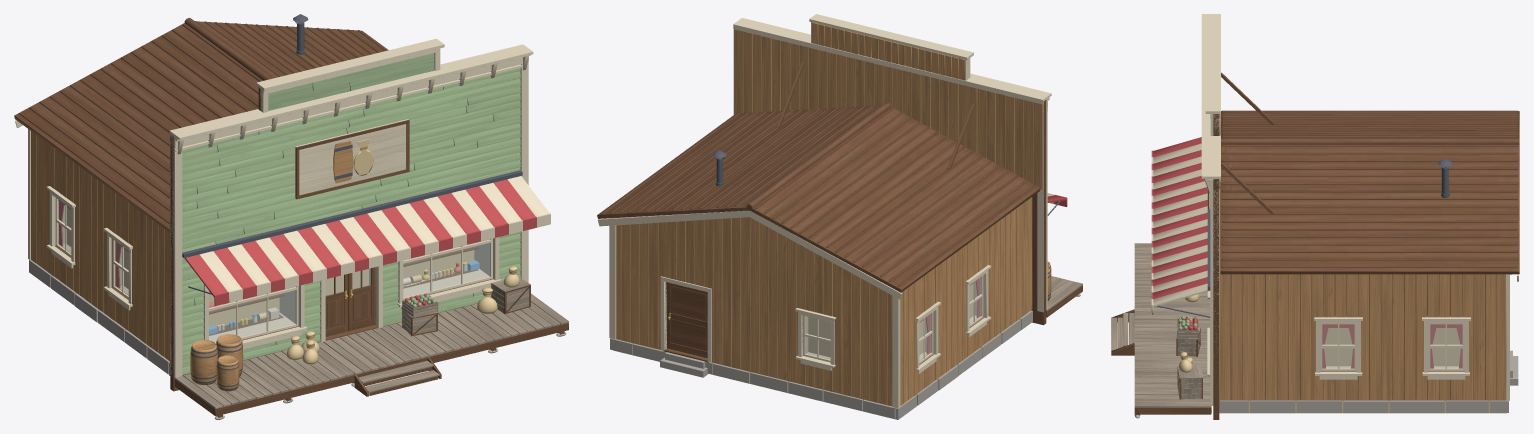
File: general-store-DNUVIYG2.glb
3 renders of one model, left to right at view 1: azimuth 30°, elevation 25°; view 2: azimuth 150°, elevation 25°; view 3: azimuth 270°, elevation 25°, orthographic. The views are drawn at different scales.
Parts seen in each view (by area): view 1: general-store_boards, general-store_trim, general-store_body, general-store_glass; view 2: general-store_boards, general-store_body, general-store_trim, general-store_glass; view 3: general-store_body, general-store_boards, general-store_trim, general-store_glass.
Part boxes in pixels (x1=…): general-store_boards: x1=31, y1=53, x2=568, y2=417; general-store_trim: x1=15, y1=14, x2=566, y2=419; general-store_body: x1=14, y1=18, x2=493, y2=391; general-store_glass: x1=58, y1=200, x2=489, y2=343; general-store_boards: x1=616, y1=22, x2=1082, y2=405; general-store_body: x1=597, y1=100, x2=1046, y2=419; general-store_trim: x1=598, y1=14, x2=1080, y2=419; general-store_glass: x1=805, y1=277, x2=980, y2=360; general-store_body: x1=1213, y1=110, x2=1519, y2=419; general-store_boards: x1=1111, y1=72, x2=1505, y2=415; general-store_trim: x1=1134, y1=14, x2=1518, y2=418; general-store_glass: x1=1322, y1=324, x2=1462, y2=368.
Bounding box in the file's own units: 10 × 7.7 × 10.6.
30 materials, 10 textured.
